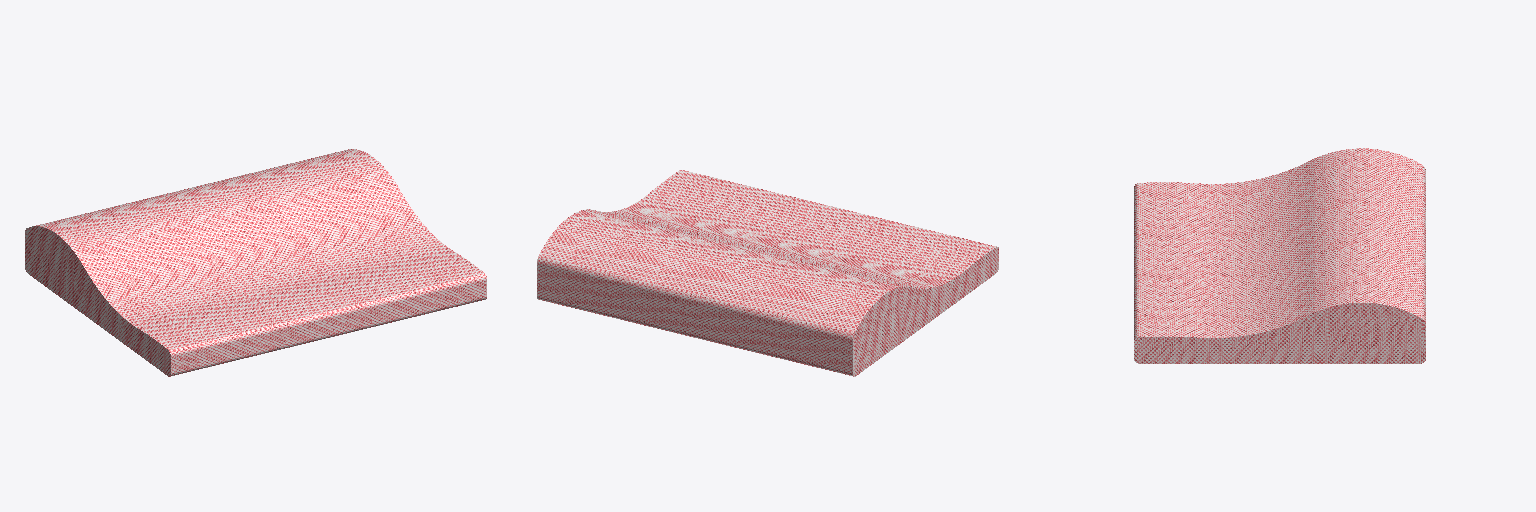
The picture shows the model from 3 angles: view 1: azimuth 30°, elevation 25°; view 2: azimuth 150°, elevation 25°; view 3: azimuth 270°, elevation 25°; orthographic projection.
Visible parts, largest first — view 1: red; view 2: red; view 3: red.
Part boxes in pixels (x1,y1,x2,y2): red: (25,149,486,376); red: (537,170,998,376); red: (1134,148,1425,363).
Size of the model in its own units: 5.67 by 1.04 by 4.53.
Materials: 1 (1 with a texture image).